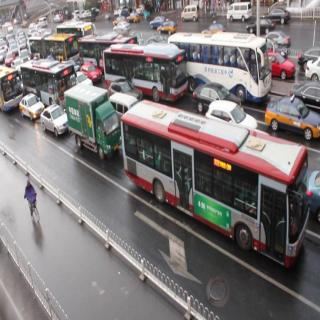BigCar: (127, 100, 296, 275), (100, 45, 187, 109), (174, 32, 265, 92), (71, 85, 116, 154), (19, 49, 72, 107)
Car: (40, 100, 68, 145), (17, 92, 45, 130)
